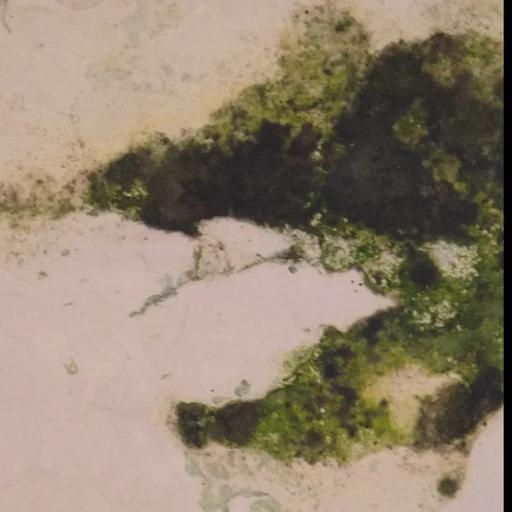algae: (85, 2, 512, 472)
